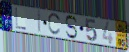4: (102, 21, 114, 47)
5: (85, 18, 99, 43)
C: (48, 13, 63, 37)
I: (37, 10, 42, 35)
L: (14, 7, 27, 32)
S: (64, 15, 79, 40)
